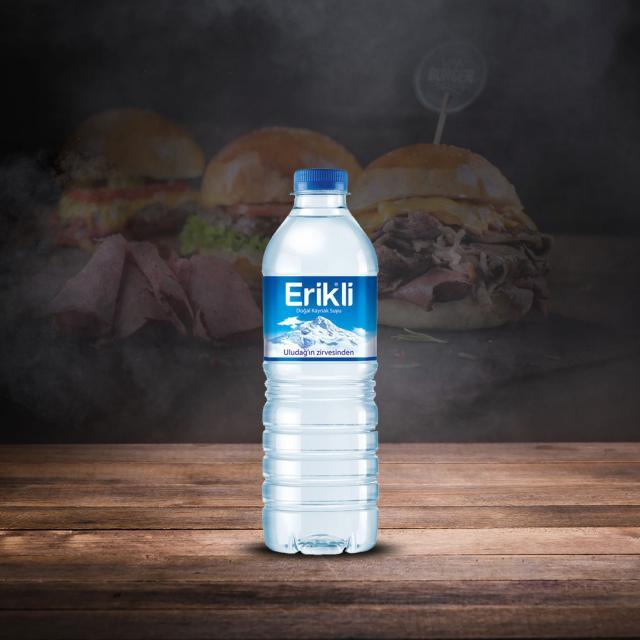plastic: (254, 157, 396, 572)
